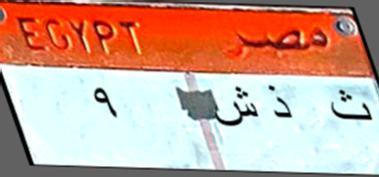9: (82, 86, 130, 122)
sheen: (216, 83, 258, 136)
thaa: (327, 87, 372, 128)
zaal: (262, 80, 296, 129)
